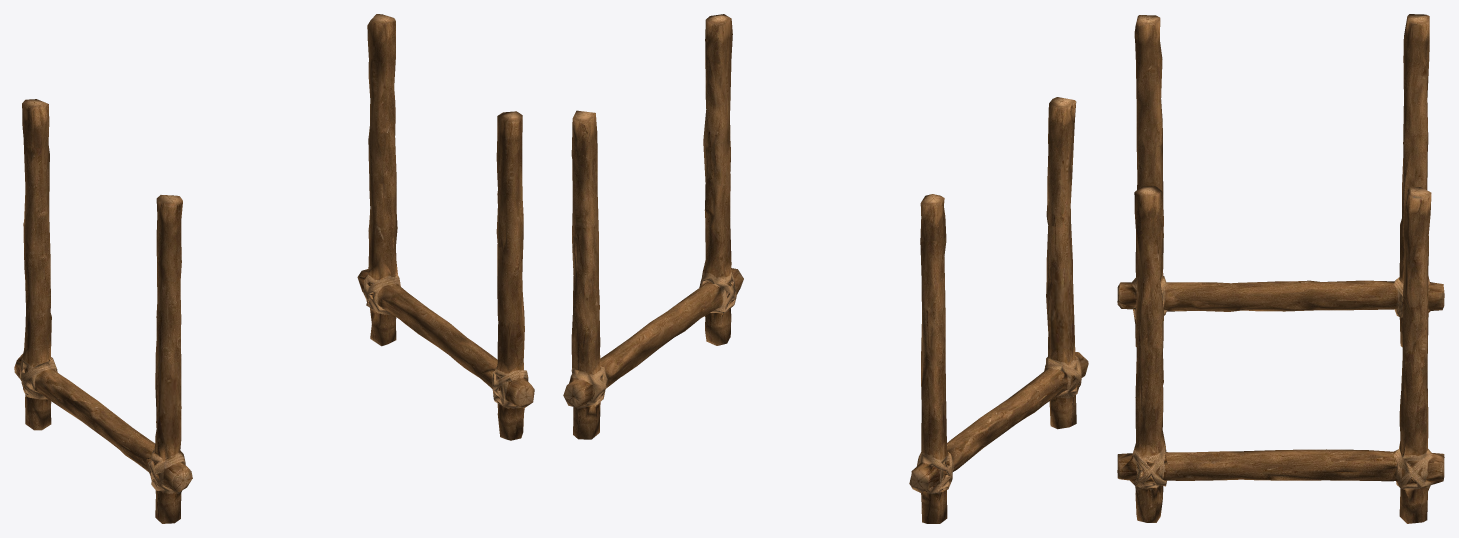
File: acopio_troncos.glb
3 views of the same model, side by side, from view 1: azimuth 30°, elevation 25°; view 2: azimuth 150°, elevation 25°; view 3: azimuth 270°, elevation 25° (orthographic). The views are drawn at different scales.
Size of the model in its own units: 1.5 by 1.23 by 1.1.
1 material, 1 textured.
